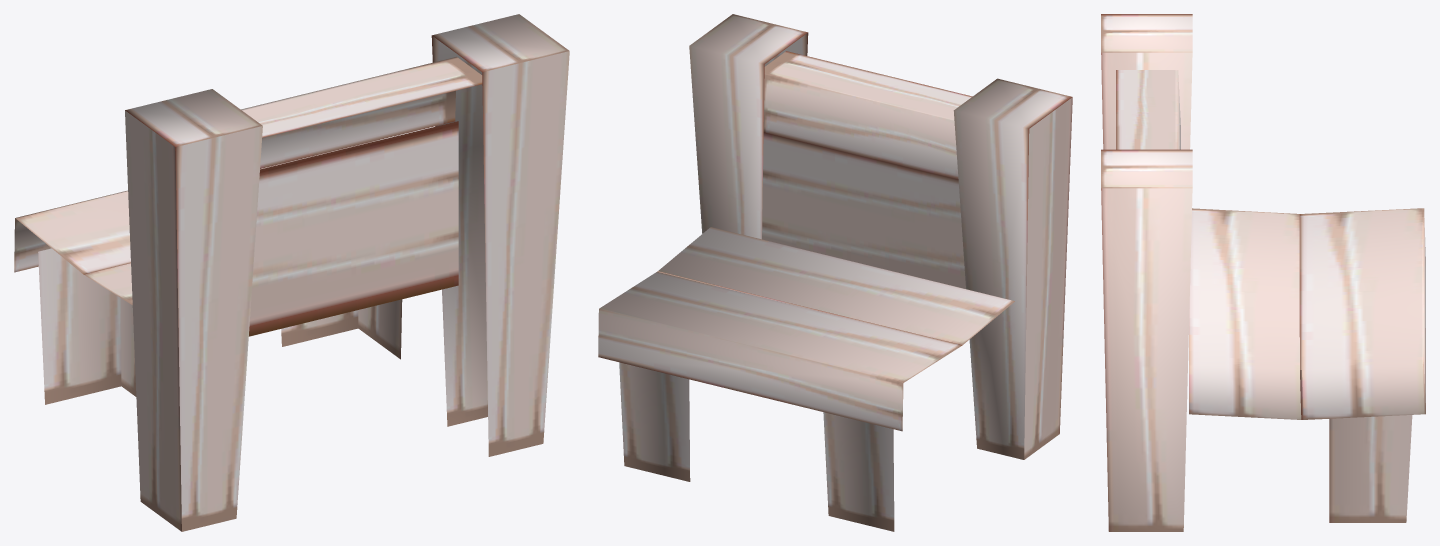
The model's file is ChairWood.fbx.
3 views of the same model, side by side, from view 1: azimuth 30°, elevation 25°; view 2: azimuth 150°, elevation 25°; view 3: azimuth 270°, elevation 25° (orthographic). The views are drawn at different scales.
Visible parts, largest first — view 1: ChairWood; view 2: ChairWood; view 3: ChairWood.
Boxes of the visible parts, left/top/right/bottom form: ChairWood: left=14, top=14, right=569, bottom=531; ChairWood: left=598, top=14, right=1072, bottom=531; ChairWood: left=1101, top=14, right=1425, bottom=531.
Bounding box in the file's own units: 0.8496 × 0.8039 × 0.6693.
